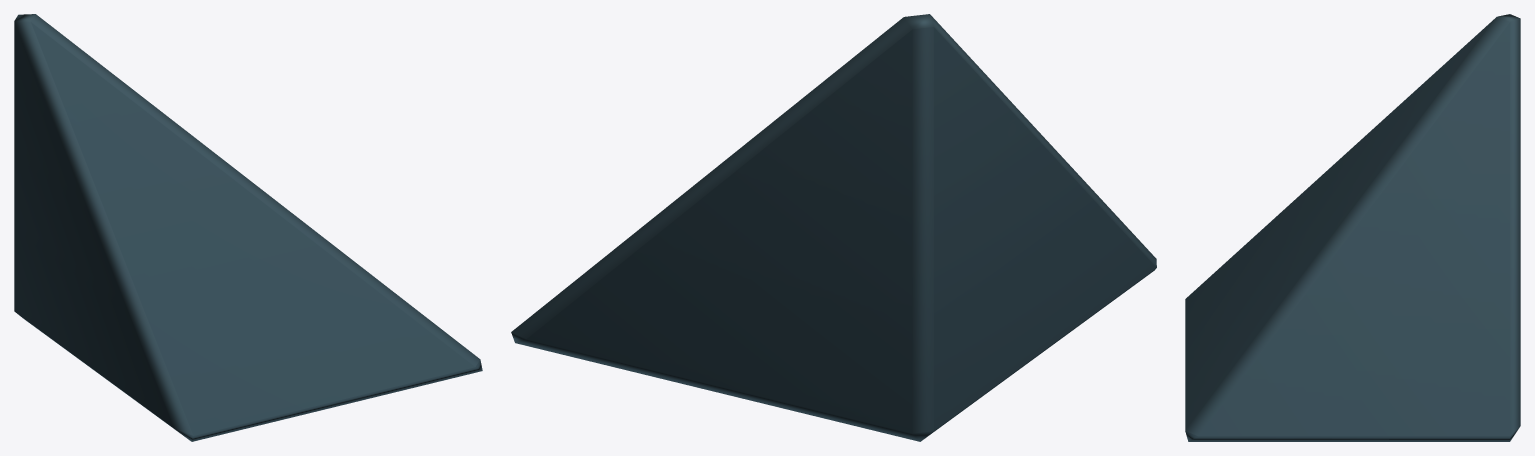
Rendered from ramp_convex_hue_4.fbx.
3 views of the same model, side by side, from view 1: azimuth 30°, elevation 25°; view 2: azimuth 150°, elevation 25°; view 3: azimuth 270°, elevation 25° (orthographic). The views are drawn at different scales.
Parts seen in each view (by area): view 1: ramp_convex_hue_4; view 2: ramp_convex_hue_4; view 3: ramp_convex_hue_4.
Part boxes in pixels (x1=…): ramp_convex_hue_4: x1=14, y1=14, x2=482, y2=441; ramp_convex_hue_4: x1=511, y1=14, x2=1156, y2=441; ramp_convex_hue_4: x1=1185, y1=14, x2=1520, y2=441.
Bounding box in the file's own units: 97.79 × 93.05 × 97.79.
